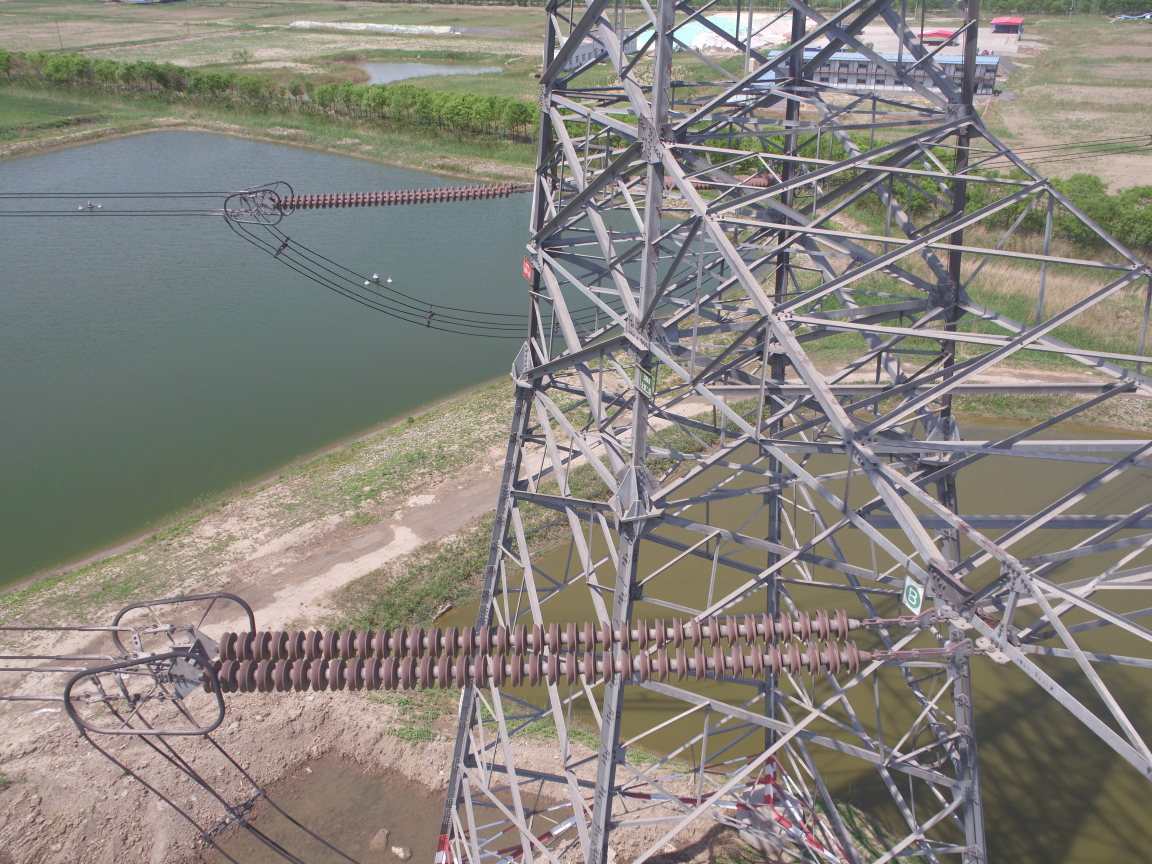insulator: (187, 608, 911, 697), (271, 181, 522, 209)
